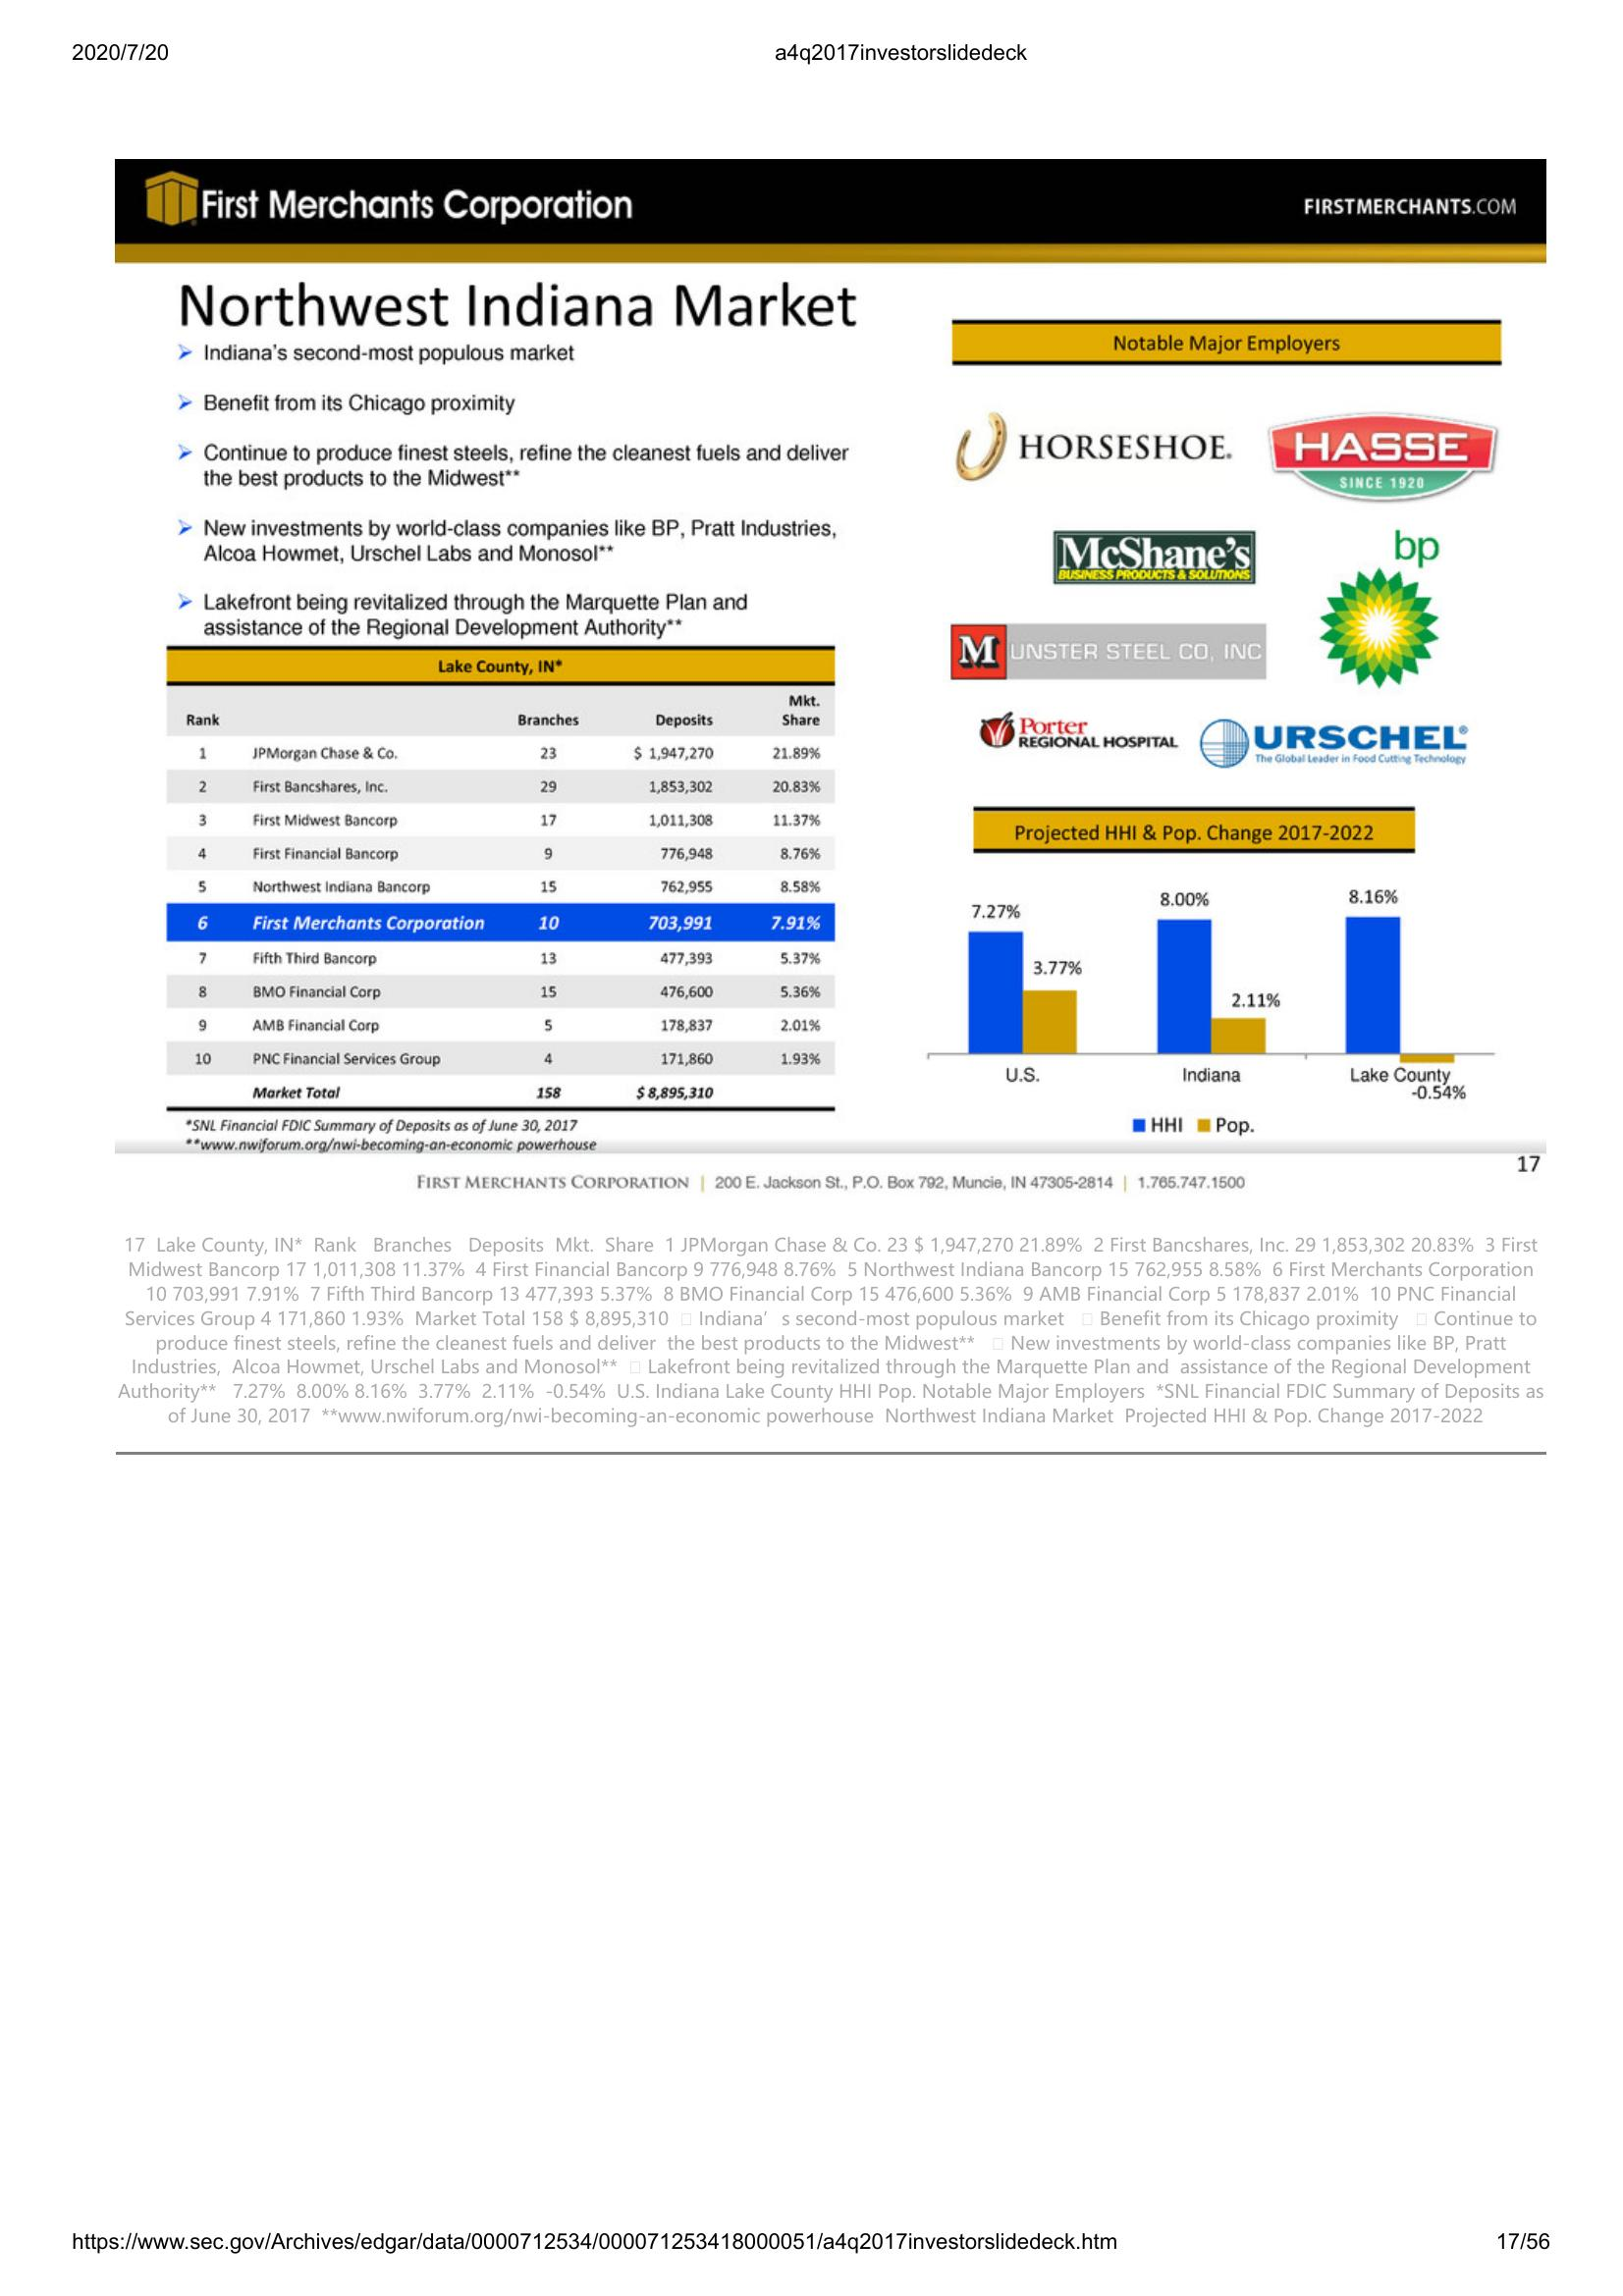table: (155, 644, 840, 1122)
